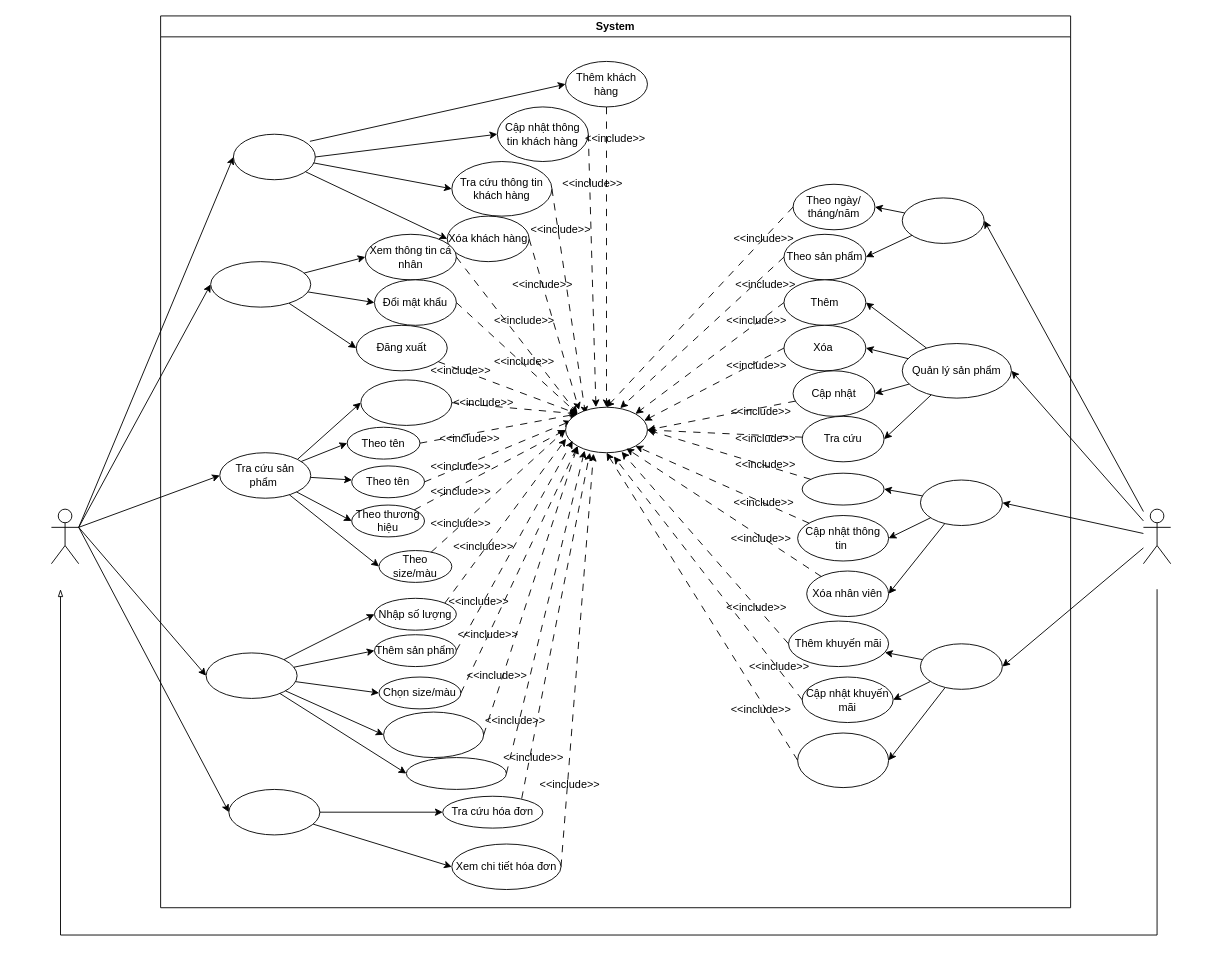
Image size: 1218x958. Some labels were removed from this diagram. The shapes that lost their labels are listed below. From the top down, each one's centre as x and y in pixels, then its label:
At pixel 274 156: "Quản lý khách hàng".
At pixel 942 220: "Thống kê doanh thu".
At pixel 260 284: "Quản lý tài khoản".
At pixel 406 402: "Xem chi tiết sản phẩm".
At pixel 606 429: "Đăng nhập".
At pixel 842 488: "Thêm nhân viên".
At pixel 961 502: "Quản lý nhân viên".
At pixel 65 536: "Nhân viên Bán hàng".
At pixel 1157 536: "Nhân viên Quản lý".
At pixel 251 675: "Lập hóa đơn".
At pixel 961 666: "Quản lý khuyến mãi".
At pixel 433 734: "Bỏ mặt hàng".
At pixel 455 773: "Thanh toán".
At pixel 843 760: "Xóa khuyến mãi".
At pixel 274 812: "Quản lý hóa đơn".
